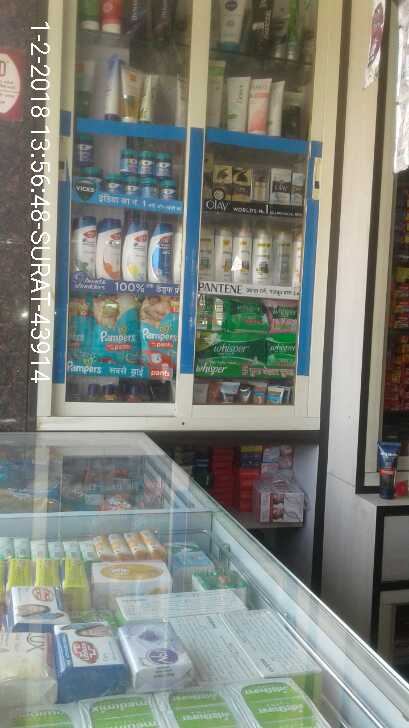beauty: (194, 339, 270, 377), (147, 220, 177, 289), (123, 217, 150, 286), (93, 220, 123, 276), (69, 217, 94, 278)
pharmacy: (73, 134, 182, 200), (93, 295, 140, 365), (140, 294, 179, 364), (211, 292, 266, 337)
